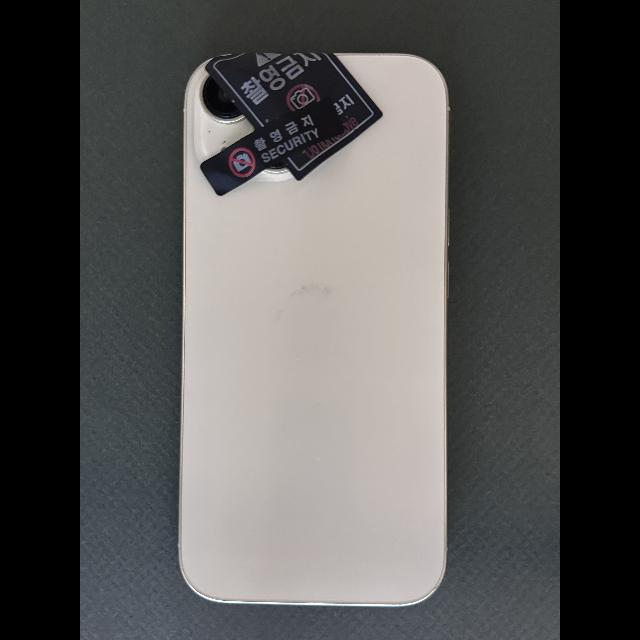lens: (199, 74, 244, 122), (266, 163, 289, 173)
phone: (178, 52, 450, 607)
sticker: (205, 52, 383, 181), (200, 97, 345, 197)
